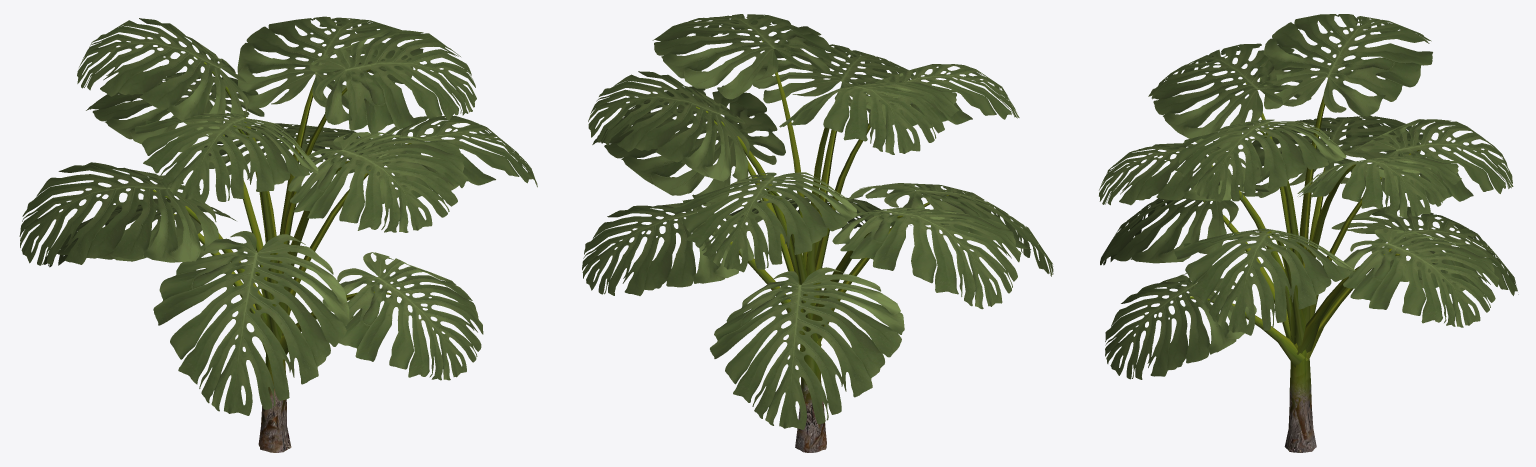
File: tropical_plant_monstera_deliciosa.webp.glb
The picture shows the model from 3 angles, left to right: view 1: azimuth 30°, elevation 25°; view 2: azimuth 150°, elevation 25°; view 3: azimuth 270°, elevation 25°; orthographic projection. The views are drawn at different scales.
Parts seen in each view (by area): view 1: Tree_1, Tree_2, Tree_0; view 2: Tree_1, Tree_2, Tree_0; view 3: Tree_1, Tree_2, Tree_0.
Boxes of the visible parts, x1,y1,x2,y2 form: Tree_1: (19, 16, 537, 415); Tree_2: (141, 57, 411, 354); Tree_0: (258, 351, 291, 452); Tree_1: (582, 14, 1053, 429); Tree_2: (696, 40, 949, 351); Tree_0: (795, 342, 826, 452); Tree_1: (1099, 14, 1518, 379); Tree_2: (1190, 83, 1419, 367); Tree_0: (1284, 343, 1316, 452).
Size of the model in its own units: 1.3 by 1.09 by 1.12.
3 materials, 3 textured.
